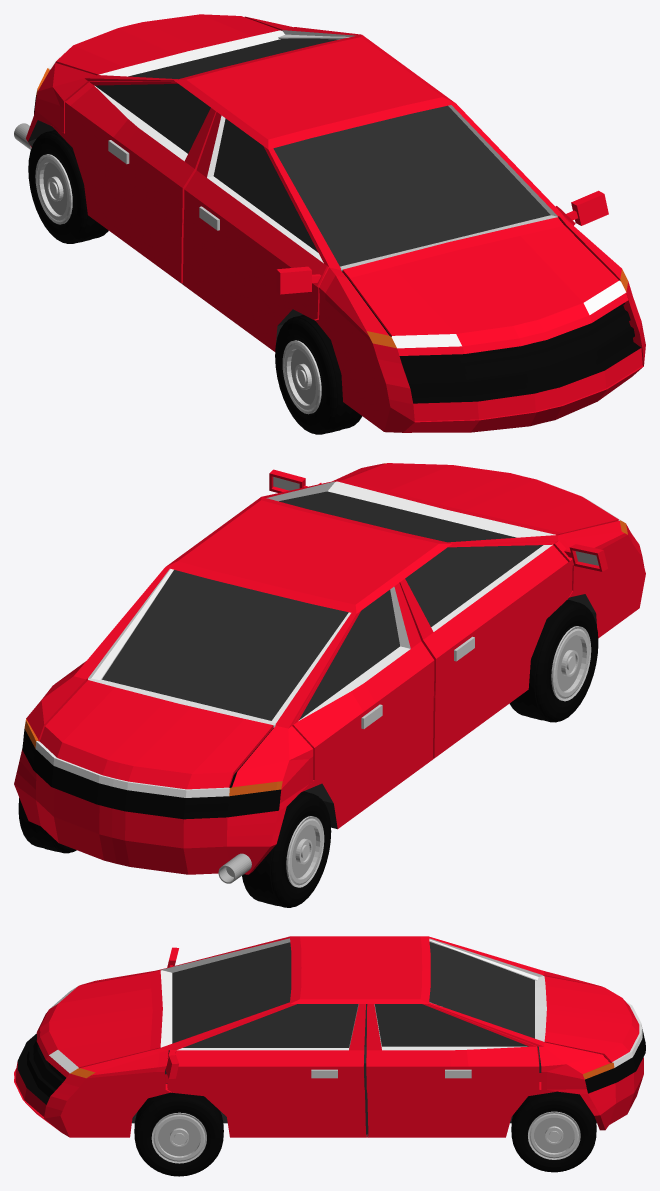
Rendered from CR-CAR-10.fbx.
3 renders of one model, top to bottom at view 1: azimuth 30°, elevation 25°; view 2: azimuth 150°, elevation 25°; view 3: azimuth 270°, elevation 25°, orthographic. The views are drawn at different scales.
Visible parts, largest first — view 1: BODY, WHEEL.001, WHEEL.004; view 2: BODY, WHEEL.001, WHEEL.004, WHEEL.002, SHACMAN; view 3: BODY, WHEEL.003, WHEEL.002.
Boxes of the visible parts, x1,y1,x2,y2 form: BODY: [26, 14, 645, 432]; WHEEL.001: [275, 314, 362, 434]; WHEEL.004: [28, 130, 108, 243]; BODY: [14, 463, 645, 874]; WHEEL.001: [509, 599, 598, 722]; WHEEL.004: [242, 791, 331, 907]; WHEEL.002: [18, 798, 76, 853]; SHACMAN: [218, 853, 251, 883]; BODY: [14, 936, 645, 1137]; WHEEL.003: [134, 1092, 223, 1176]; WHEEL.002: [511, 1091, 596, 1172].
Size of the model in its own units: 126 by 81.02 by 285.
